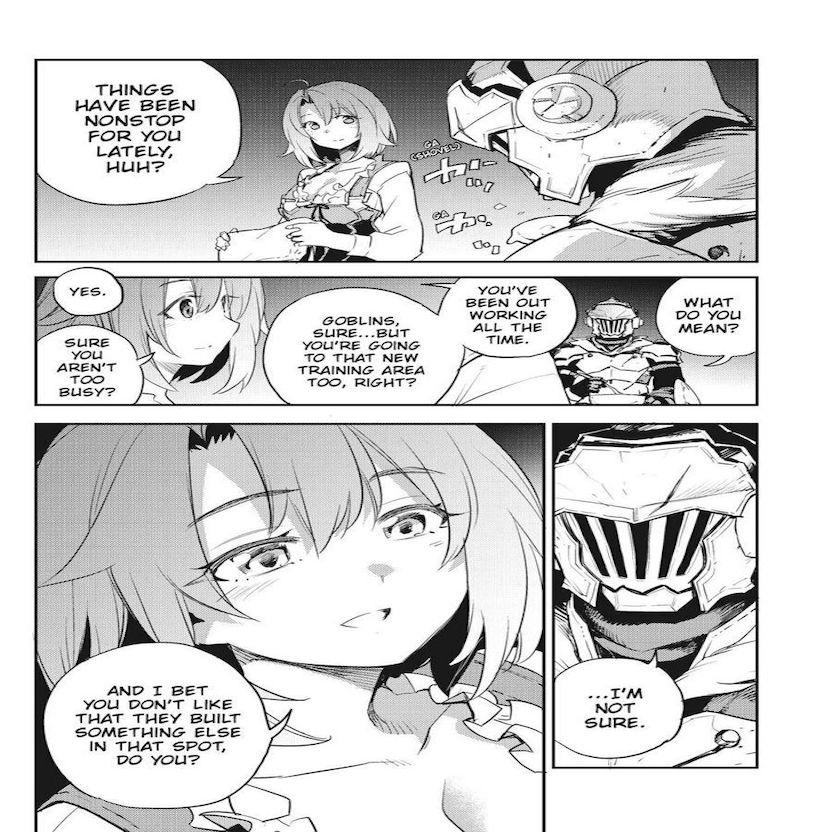Bubble: (42, 639, 275, 811), (32, 57, 246, 210), (261, 284, 439, 409), (551, 655, 687, 761), (462, 273, 582, 359), (33, 323, 146, 408), (654, 273, 761, 359), (51, 265, 126, 319)
